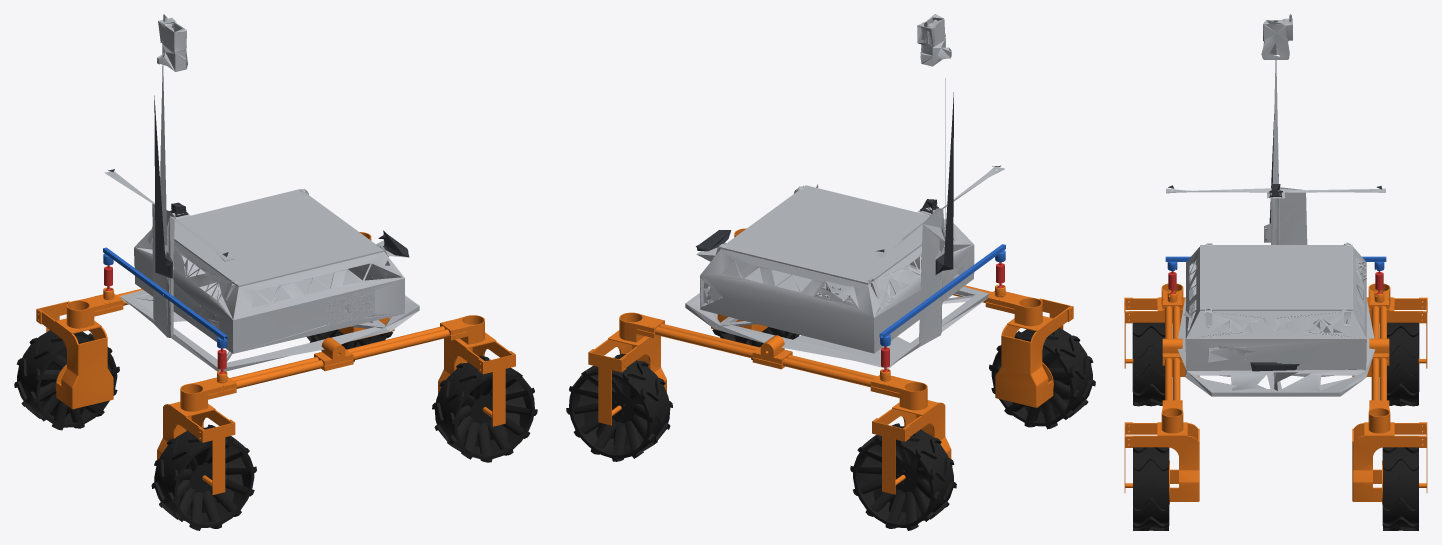
The model's file is rover.glb.
The picture shows the model from 3 angles, left to right: view 1: azimuth 30°, elevation 25°; view 2: azimuth 150°, elevation 25°; view 3: azimuth 270°, elevation 25°; orthographic projection. The views are drawn at different scales.
Parts seen in each view (by area): view 1: base_link, wheel_rf, wheel_rb, rocker_right, wheel_lb, fork_lb, fork_rb, fork_rf, rocker_left, diff_bar, wheel_lf; view 2: base_link, wheel_lf, wheel_lb, rocker_left, wheel_rb, fork_rb, fork_lb, fork_lf, rocker_right, diff_bar; view 3: base_link, fork_lf, fork_rf, wheel_lf, wheel_rf, rocker_right, rocker_left, wheel_lb, wheel_rb, fork_rb, fork_lb, diff_bar.
Part boxes in pixels (x1,y1,x2,y2): base_link: [104, 14, 419, 371]; wheel_rf: [432, 356, 537, 462]; wheel_rb: [151, 424, 256, 530]; rocker_right: [180, 315, 484, 411]; wheel_lb: [14, 330, 119, 430]; fork_lb: [36, 301, 113, 409]; fork_rb: [157, 401, 235, 494]; fork_rf: [438, 332, 515, 426]; rocker_left: [66, 232, 371, 328]; diff_bar: [103, 247, 227, 348]; wheel_lf: [306, 329, 392, 361]; base_link: [685, 14, 1004, 368]; wheel_lf: [566, 354, 672, 461]; wheel_lb: [850, 423, 956, 530]; rocker_left: [619, 312, 927, 410]; wheel_rb: [989, 327, 1095, 429]; fork_rb: [995, 298, 1073, 407]; fork_lb: [872, 400, 951, 494]; fork_lf: [588, 330, 666, 425]; rocker_right: [734, 228, 1042, 326]; diff_bar: [879, 244, 1005, 346]; base_link: [1166, 14, 1385, 396]; fork_lf: [1352, 422, 1427, 504]; fork_rf: [1124, 422, 1199, 504]; wheel_lf: [1382, 447, 1418, 530]; wheel_rf: [1133, 447, 1169, 530]; rocker_right: [1161, 283, 1183, 433]; rocker_left: [1368, 283, 1390, 433]; wheel_lb: [1387, 322, 1419, 406]; wheel_rb: [1132, 322, 1164, 406]; fork_rb: [1124, 297, 1199, 376]; fork_lb: [1352, 297, 1427, 376]; diff_bar: [1165, 256, 1386, 270].
Bounding box in the file's own units: 1.28 × 1.48 × 1.01.
